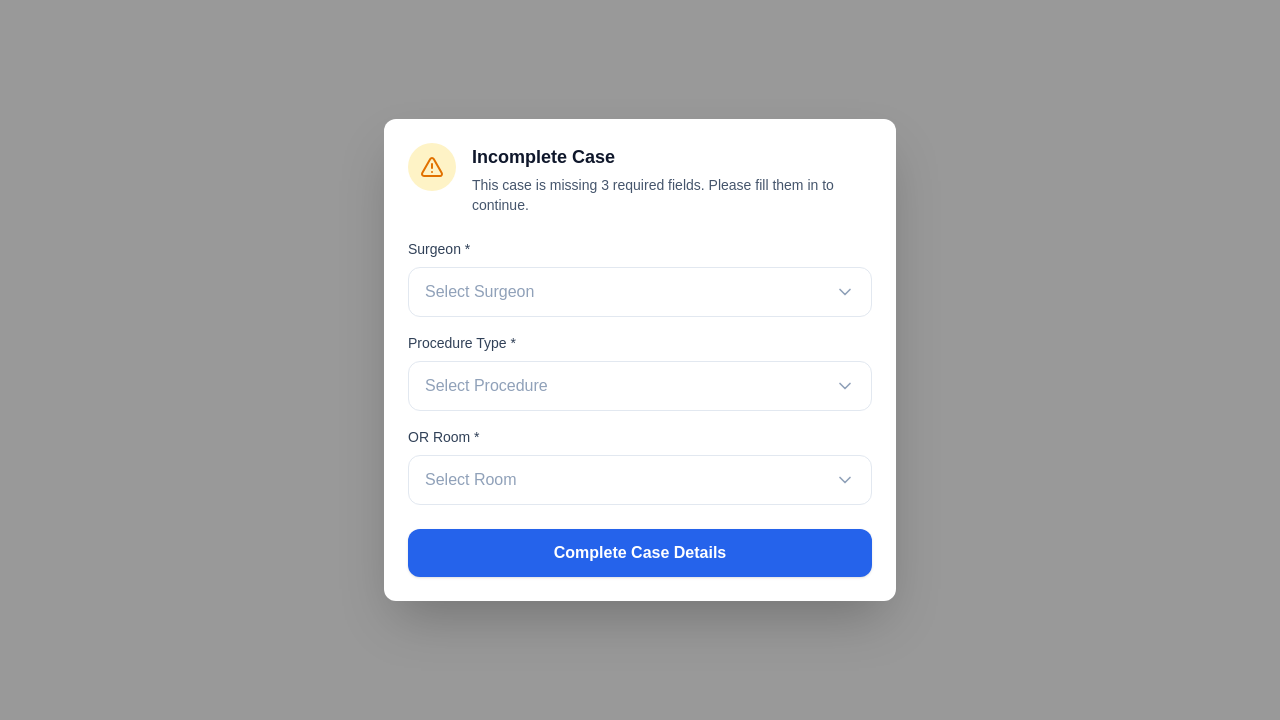
Scenario: IncompleteCaseModal — Phase 2.2 › shows validation errors when trying to save without filling fields
Click the button "Complete Case Details".
click(640, 553)  # box [408,529,872,577]
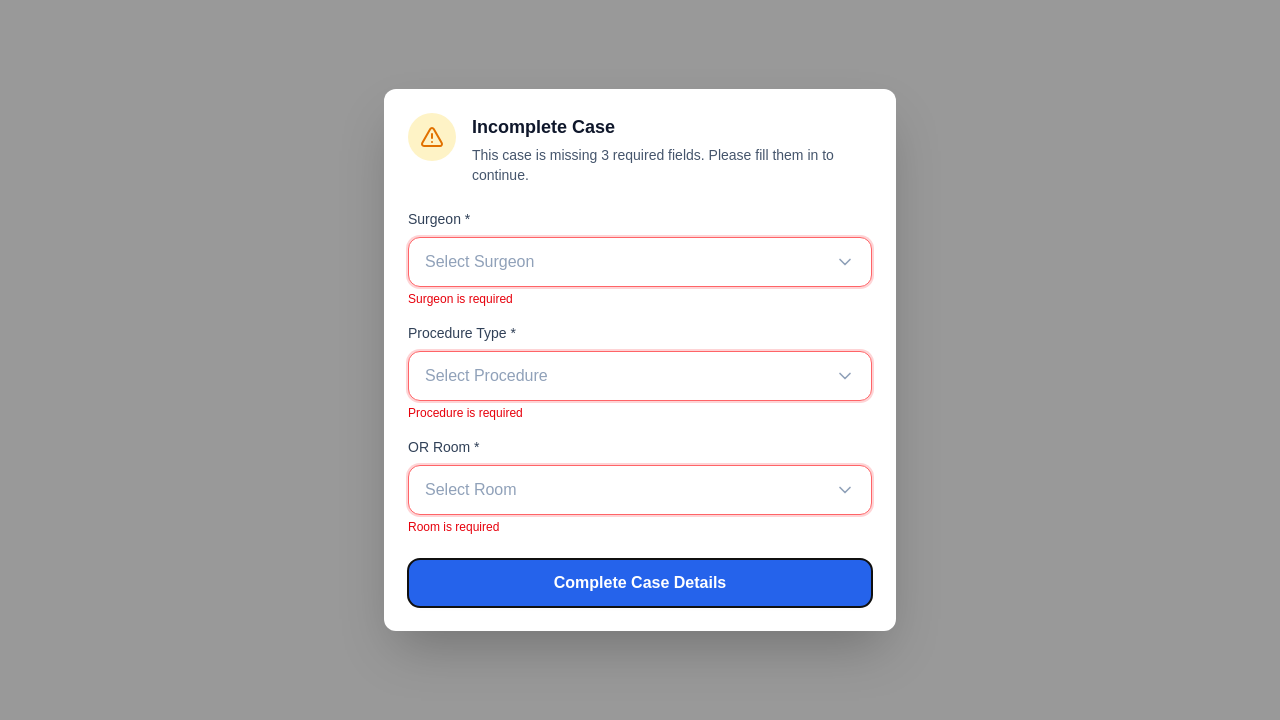
expect the text "Surgeon is required" is shown: met, box [408,292,513,306]
expect the text "Procedure is required" is shown: met, box [408,406,523,420]
expect the text "Room is required" is shown: met, box [408,520,499,534]
